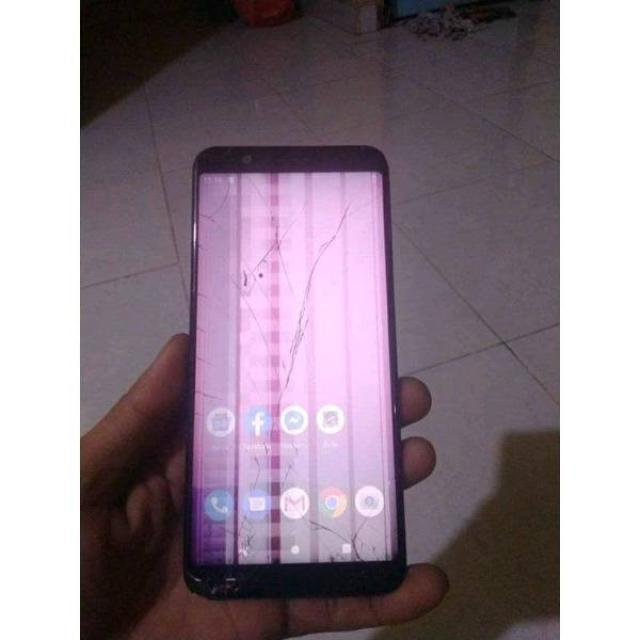phone: (193, 148, 410, 586)
